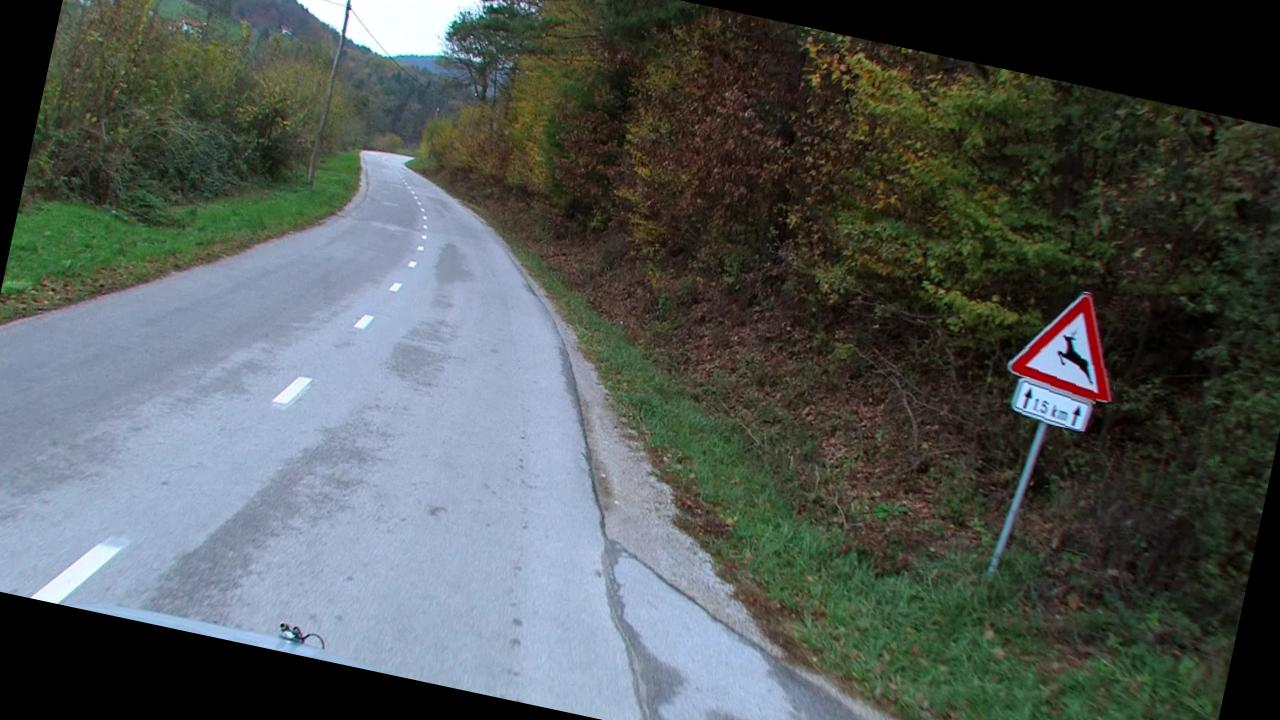Rectangle: (1009, 375, 1097, 433)
Triangle: (1006, 278, 1133, 402)
